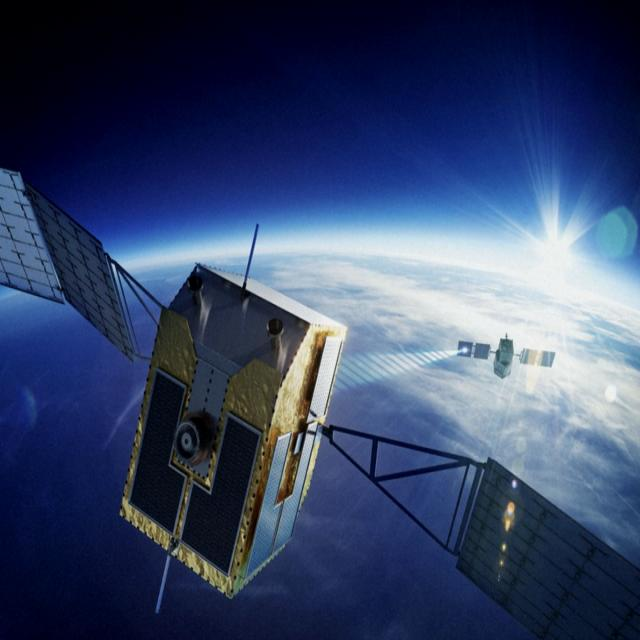medium_debris: (0, 139, 640, 640), (449, 325, 562, 392)
